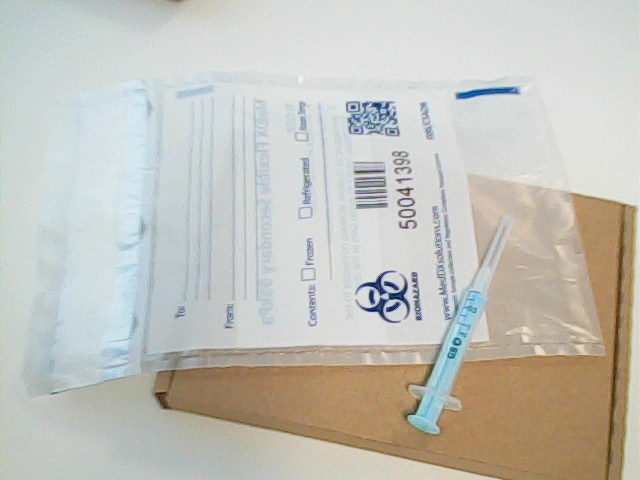syringe: (402, 204, 521, 442)
